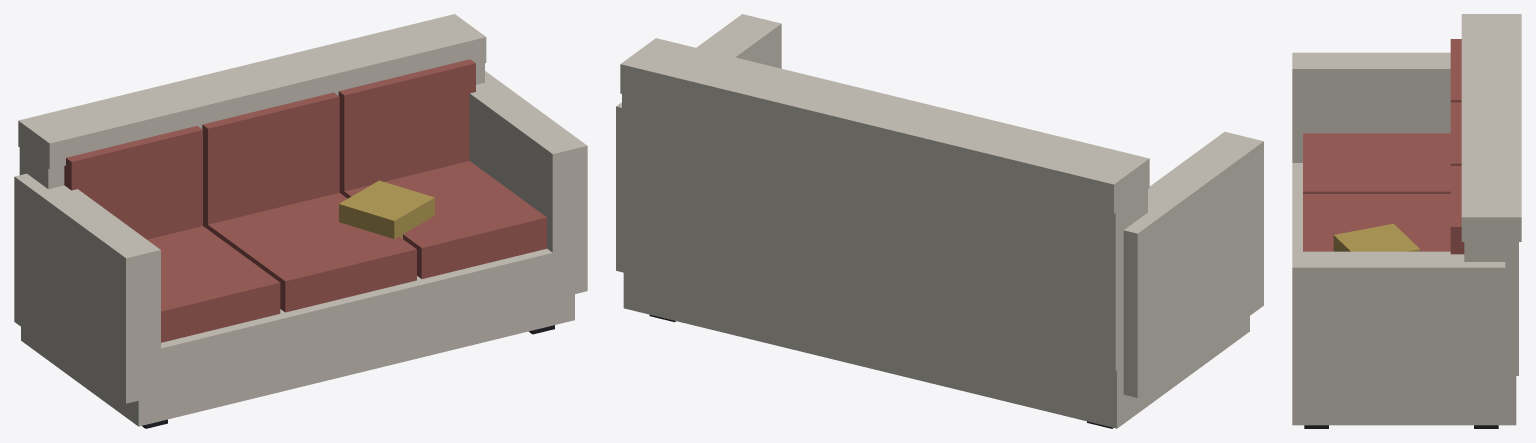
Rendered from sofa.glb.
3 renders of one model, left to right at view 1: azimuth 30°, elevation 25°; view 2: azimuth 150°, elevation 25°; view 3: azimuth 270°, elevation 25°, orthographic. The views are drawn at different scales.
Visible parts, largest first — view 1: sofa; view 2: sofa; view 3: sofa.
Boxes of the visible parts, bbox=[...] form: sofa: bbox=[14, 14, 587, 428]; sofa: bbox=[616, 14, 1263, 428]; sofa: bbox=[1292, 14, 1521, 428].
Size of the model in its own units: 1.86 by 0.88 by 0.84.
